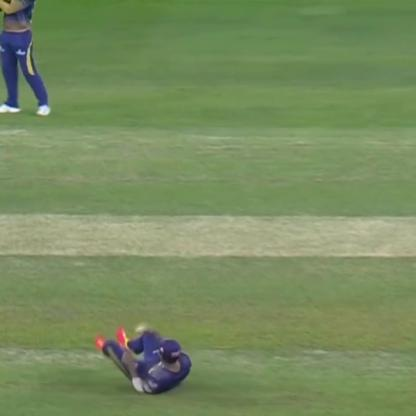ball: (129, 322, 150, 338)
